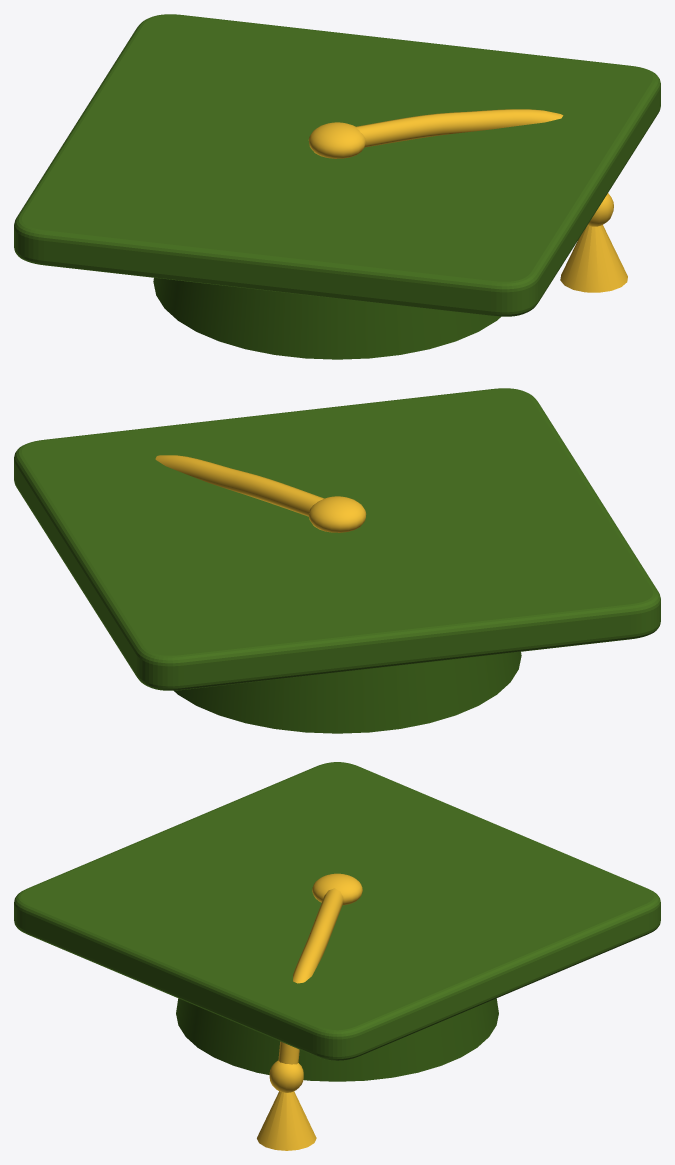
Rendered from acc-gradcap.glb.
3 renders of one model, top to bottom at view 1: azimuth 30°, elevation 25°; view 2: azimuth 150°, elevation 25°; view 3: azimuth 270°, elevation 25°, orthographic. The views are drawn at different scales.
Bounding box in the file's own units: 1.4 × 0.3903 × 1.4.
